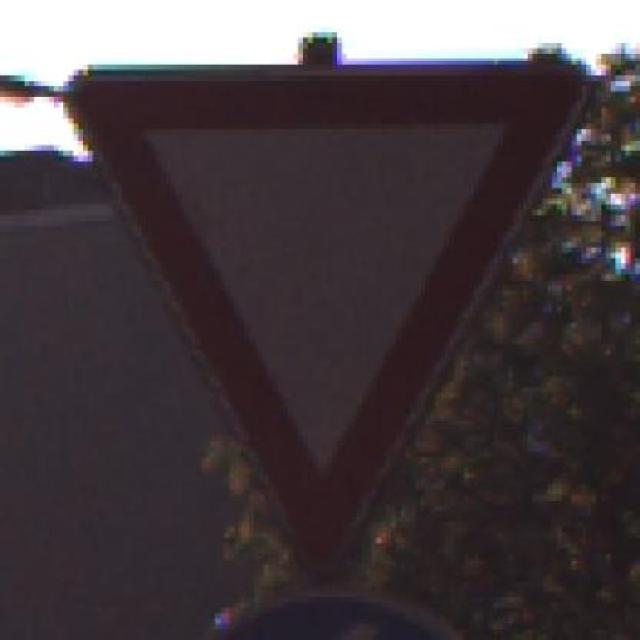Give Way: (49, 43, 606, 575)
